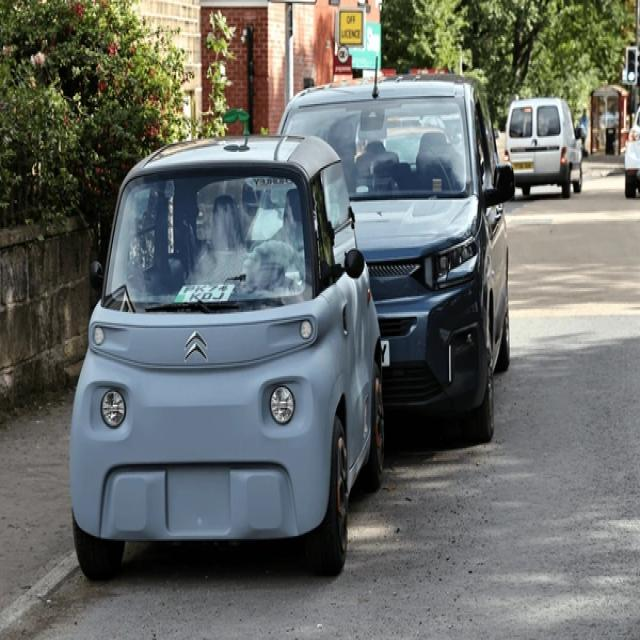citroen: (180, 327, 211, 364)
